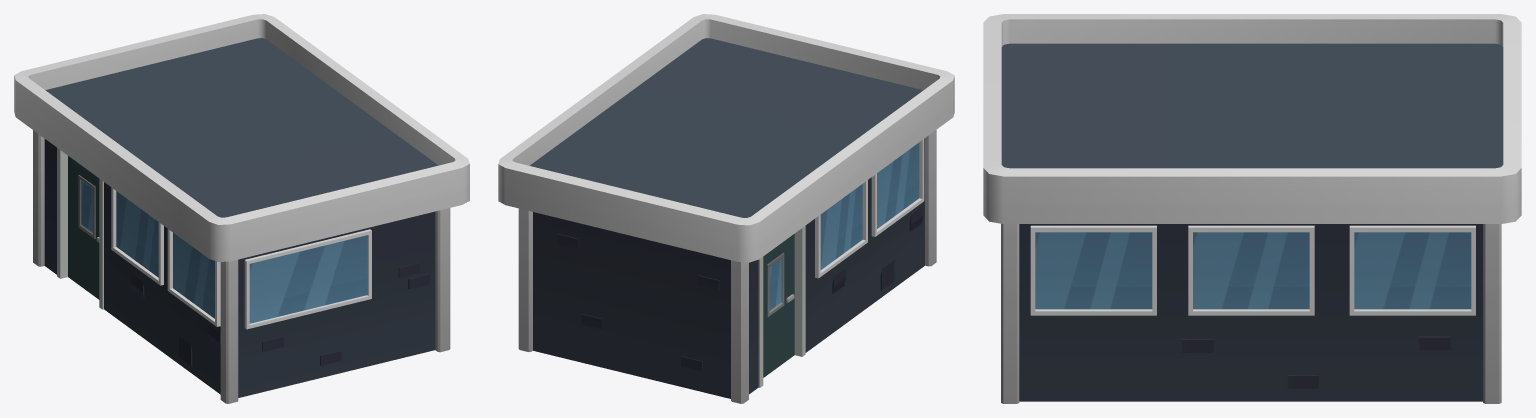
The model's file is Building_13_G.fbx.
3 renders of one model, left to right at view 1: azimuth 30°, elevation 25°; view 2: azimuth 150°, elevation 25°; view 3: azimuth 270°, elevation 25°, orthographic. The views are drawn at different scales.
Parts seen in each view (by area): view 1: Building_13_G; view 2: Building_13_G; view 3: Building_13_G.
Part boxes in pixels (x1,y1,x2,y2): Building_13_G: (14, 14, 469, 403); Building_13_G: (498, 14, 954, 403); Building_13_G: (983, 14, 1521, 403).
Size of the model in its own units: 392 by 271 by 549.
